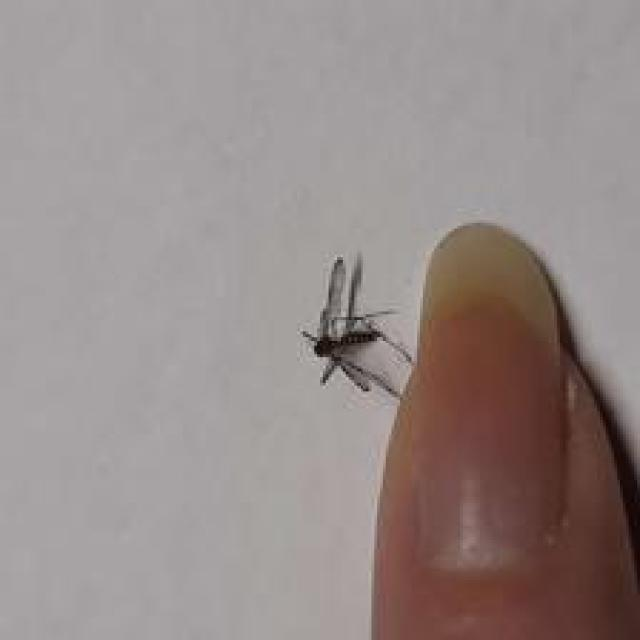Culex: (300, 250, 414, 401)
